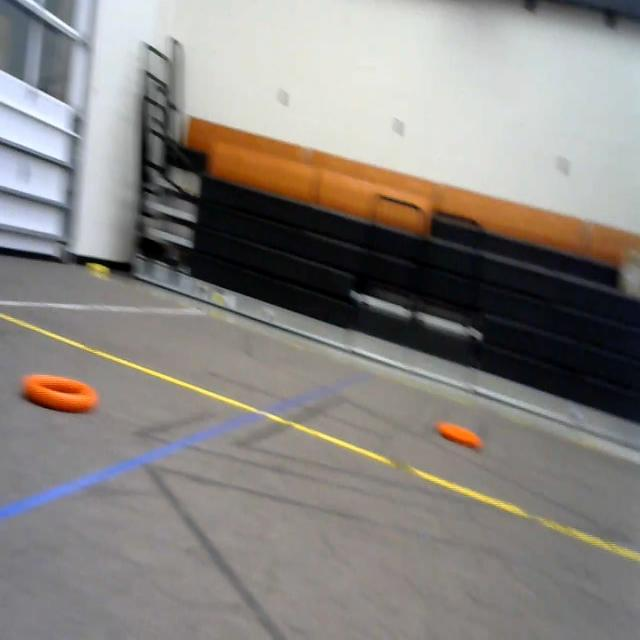note: (21, 366, 102, 421), (438, 414, 487, 454)
